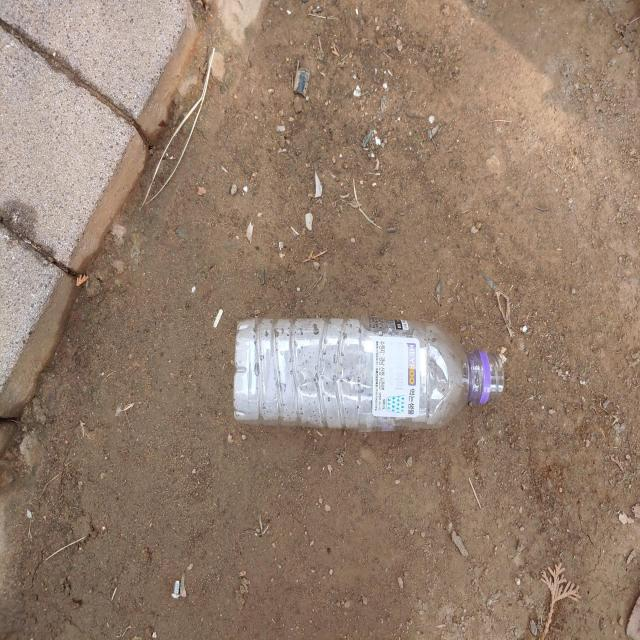plastic: (233, 316, 505, 432)
